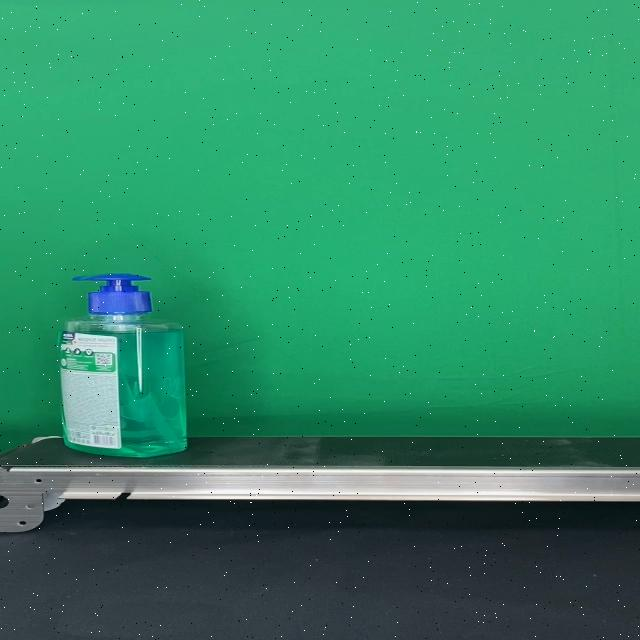Bottle: (57, 274, 186, 458)
Cap: (72, 274, 154, 315)
